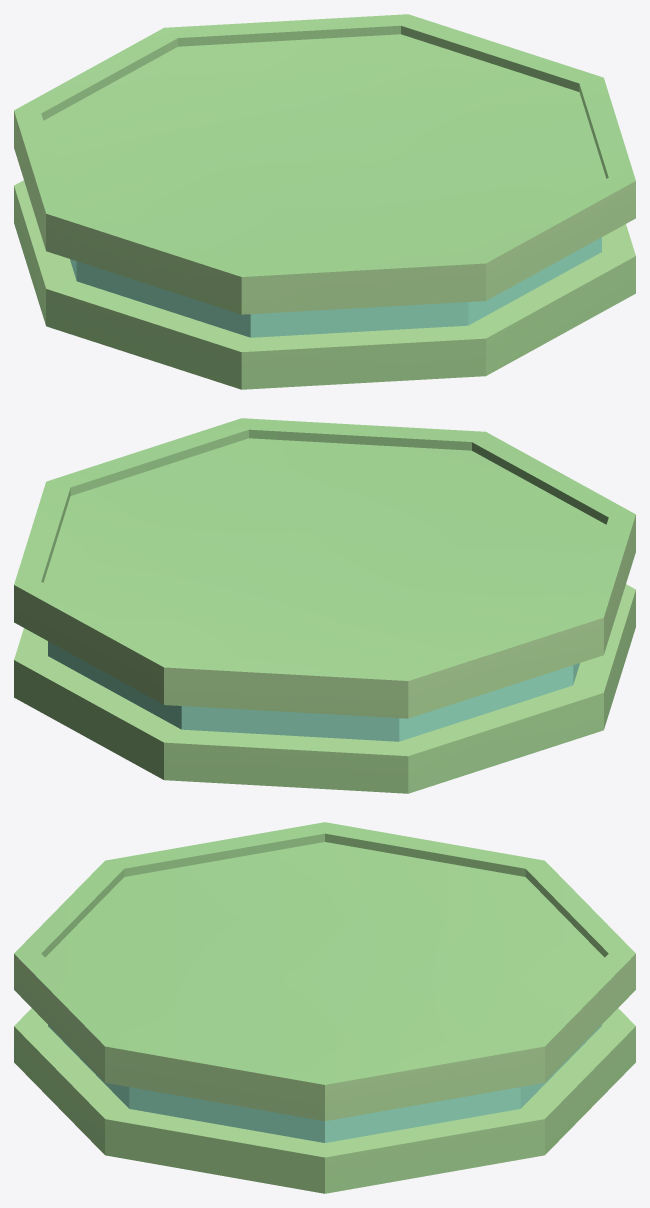
File: Food_oreo.fbx
3 views of the same model, one above another, from view 1: azimuth 30°, elevation 25°; view 2: azimuth 150°, elevation 25°; view 3: azimuth 270°, elevation 25° (orthographic). The views are drawn at different scales.
Visible parts, largest first — view 1: Cylinder.001; view 2: Cylinder.001; view 3: Cylinder.001.
Boxes of the visible parts, x1,y1,x2,y2 form: Cylinder.001: (14, 14, 635, 389); Cylinder.001: (14, 418, 635, 793); Cylinder.001: (14, 822, 635, 1193).
Bounding box in the file's own units: 10.67 × 2.06 × 10.67.
